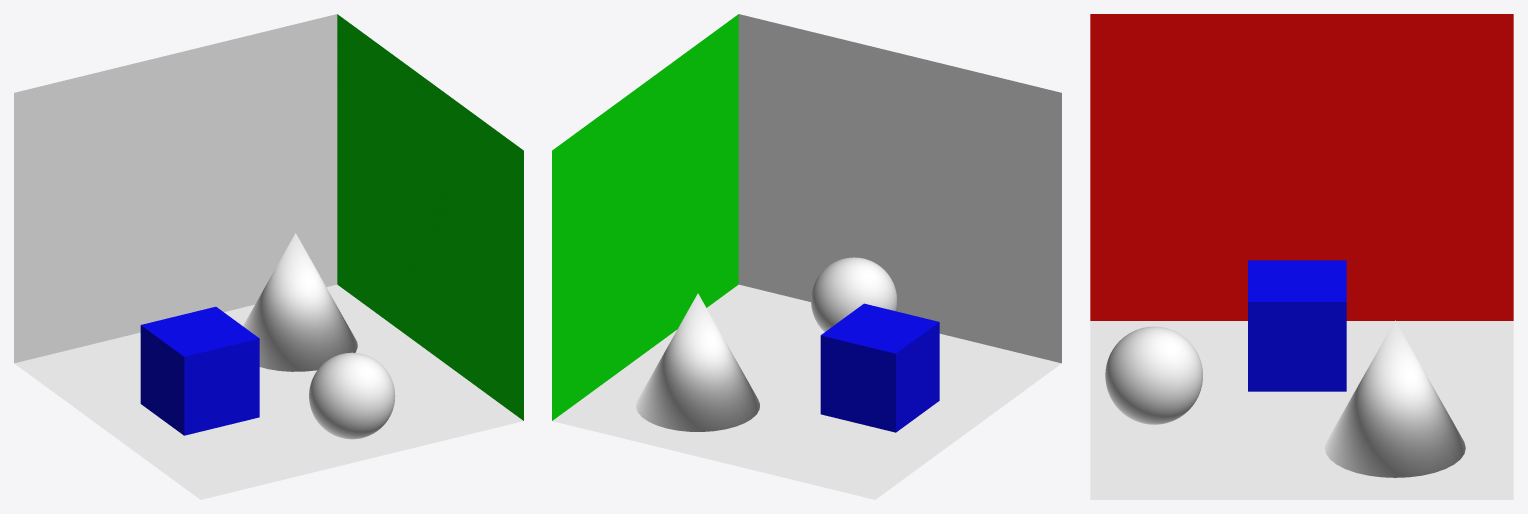
The model's file is cornellbox_notex.glb.
3 views of the same model, side by side, from view 1: azimuth 30°, elevation 25°; view 2: azimuth 150°, elevation 25°; view 3: azimuth 270°, elevation 25° (orthographic). The views are drawn at different scales.
Parts seen in each view (by area): view 1: Cube, Cube.001, Cone, Sphere; view 2: Cube, Cube.001, Cone, Sphere; view 3: Cube, Cube.001, Cone, Sphere.
Boxes of the visible parts, <box> form: Cube: <box>14,14,523,499</box>; Cube.001: <box>140,306,259,435</box>; Cone: <box>243,233,357,371</box>; Sphere: <box>309,352,395,439</box>; Cube: <box>552,14,1061,499</box>; Cube.001: <box>820,303,939,432</box>; Cone: <box>636,293,759,431</box>; Sphere: <box>811,257,897,331</box>; Cube: <box>1090,14,1513,499</box>; Cube.001: <box>1248,260,1346,391</box>; Cone: <box>1324,320,1465,477</box>; Sphere: <box>1105,326,1202,424</box>.
Bounding box in the file's own units: 6 × 4.8 × 6.
